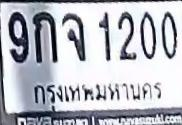0: (160, 11, 178, 60), (139, 11, 156, 60)
1: (98, 11, 111, 62)
2: (117, 10, 136, 60)
9: (8, 11, 28, 63)
A01: (32, 11, 58, 63)
A08: (61, 12, 86, 62)
BKK: (30, 76, 168, 111)
